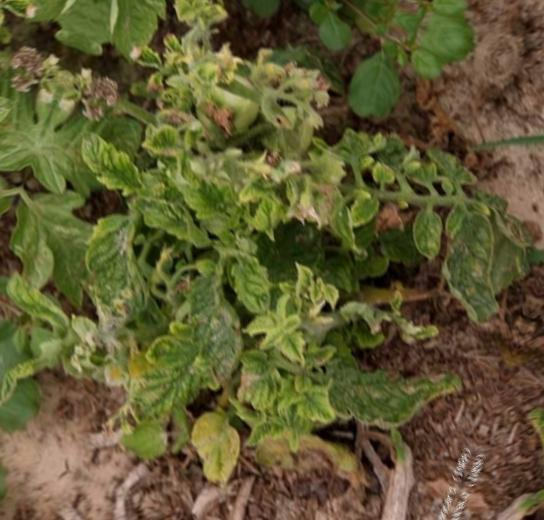Tomato leaf yellow virus: (118, 305, 236, 452), (70, 203, 183, 324), (344, 353, 458, 454), (167, 158, 257, 239), (73, 132, 159, 197), (217, 244, 288, 321), (398, 196, 466, 271), (287, 371, 353, 435), (254, 183, 300, 244), (345, 184, 388, 237), (364, 151, 402, 189), (274, 328, 314, 364)
